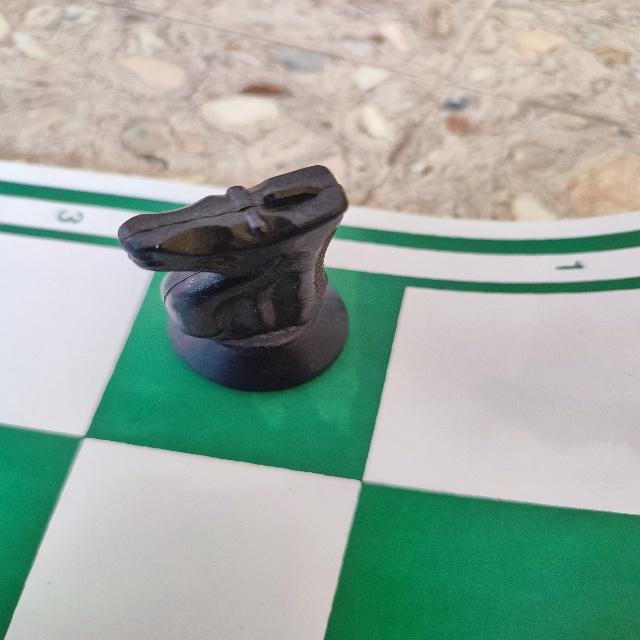Knight: (106, 162, 370, 396)
